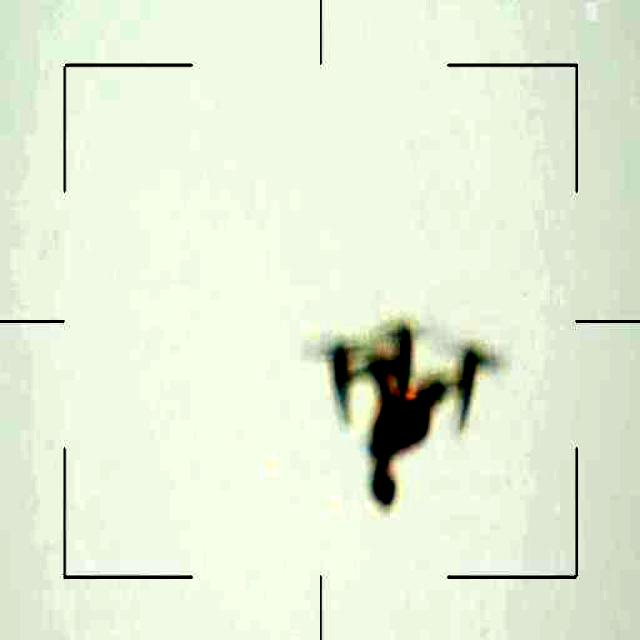bird: (321, 309, 491, 509)
